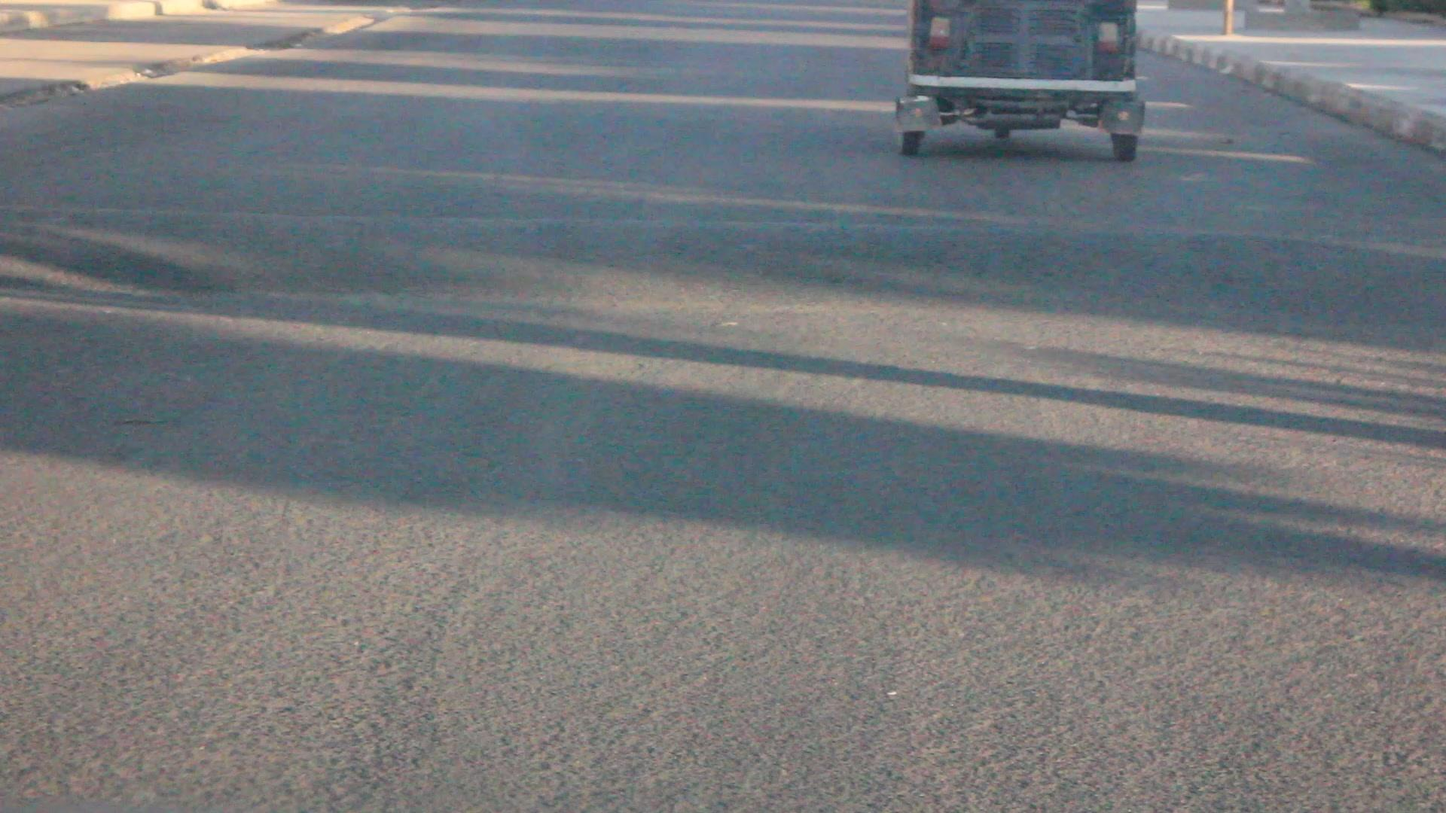Bump: (0, 202, 1445, 328)
